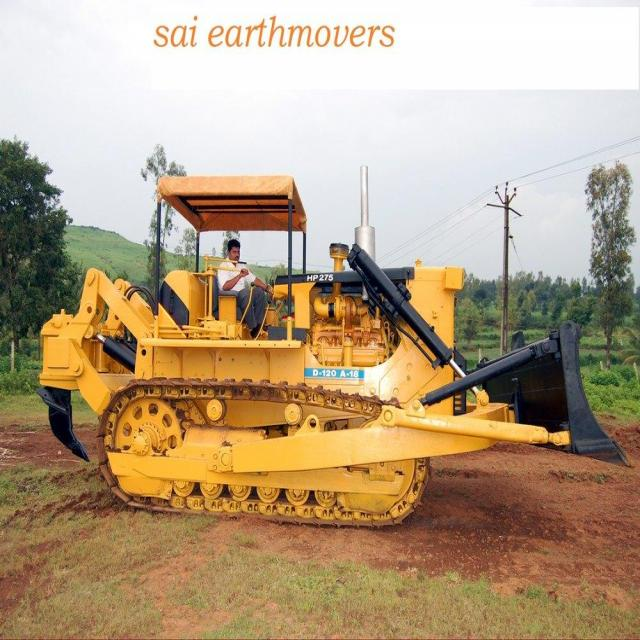Bulldozer: (36, 156, 639, 540)
